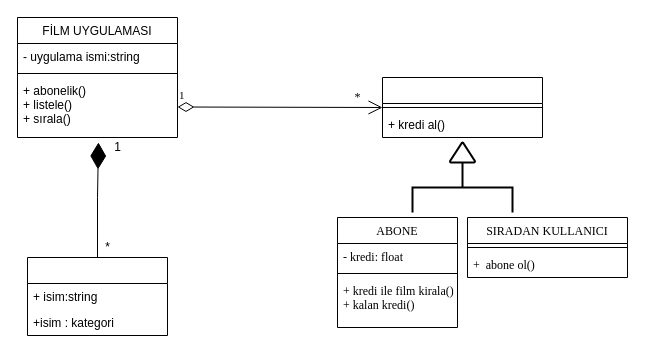
This 645x356 diagram has some shape labels left out. Each missing label, with the box of its shape:
FİLMLER: (26, 256, 168, 336)
KULLANICILAR: (382, 76, 542, 138)
